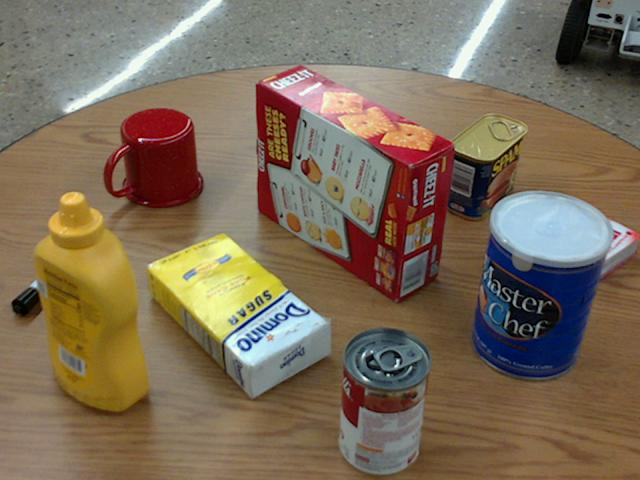cracker_box: (255, 66, 453, 300)
gelatin_box: (534, 205, 639, 285)
large_marker: (12, 232, 96, 311)
master_chef_can: (471, 190, 611, 380)
mug: (104, 108, 202, 207)
mustard_bottle: (32, 191, 145, 409)
potted_meat_can: (446, 114, 527, 219)
sugar_box: (145, 231, 328, 398)
tomato_soup_can: (337, 328, 429, 476)
tuna_fish_can: (267, 79, 340, 151)
